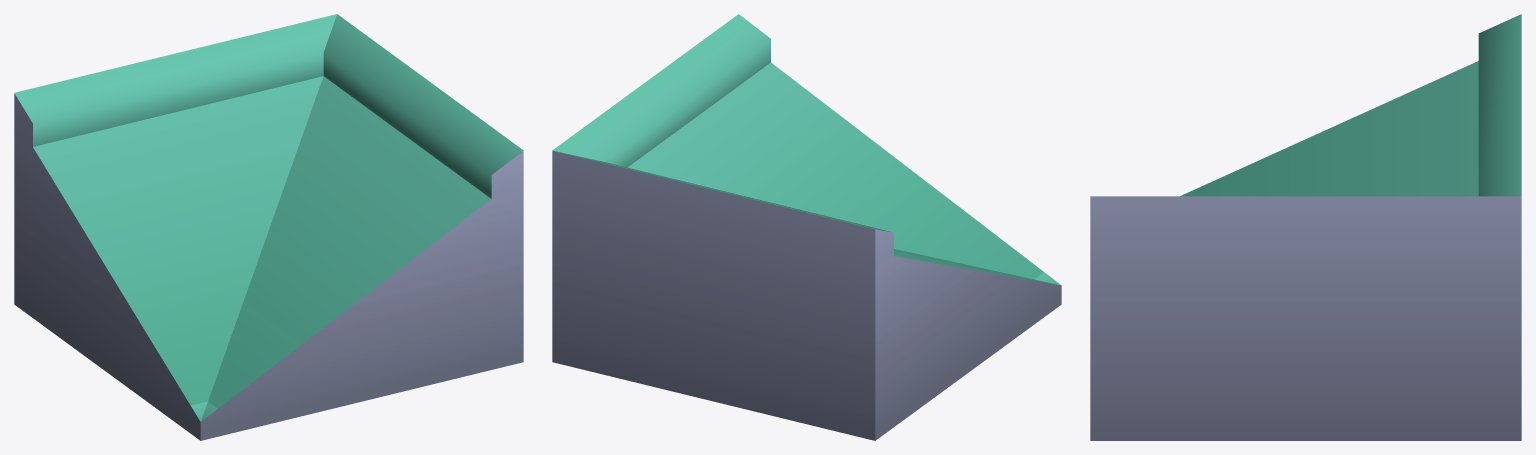
File: kenney-fantasy-town-roof-corner-inner.glb
The picture shows the model from 3 angles, left to right: view 1: azimuth 30°, elevation 25°; view 2: azimuth 150°, elevation 25°; view 3: azimuth 270°, elevation 25°; orthographic projection. The views are drawn at different scales.
Parts seen in each view (by area): view 1: roof-corner-inner; view 2: roof-corner-inner; view 3: roof-corner-inner.
Boxes of the visible parts, bbox=[...] form: roof-corner-inner: bbox=[14, 14, 523, 440]; roof-corner-inner: bbox=[552, 14, 1061, 440]; roof-corner-inner: bbox=[1090, 14, 1521, 440].
Bounding box in the file's own units: 1 × 0.6259 × 1.
Materials: 1 (1 with a texture image).
